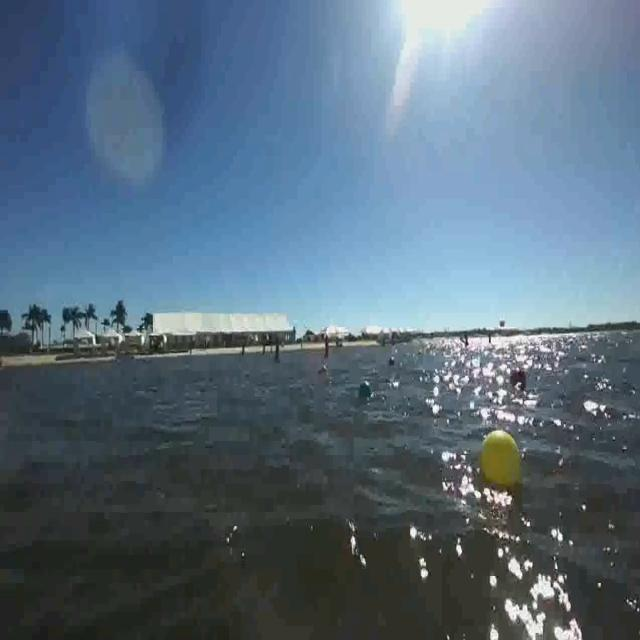yellow-buoy: (479, 429, 522, 492)
